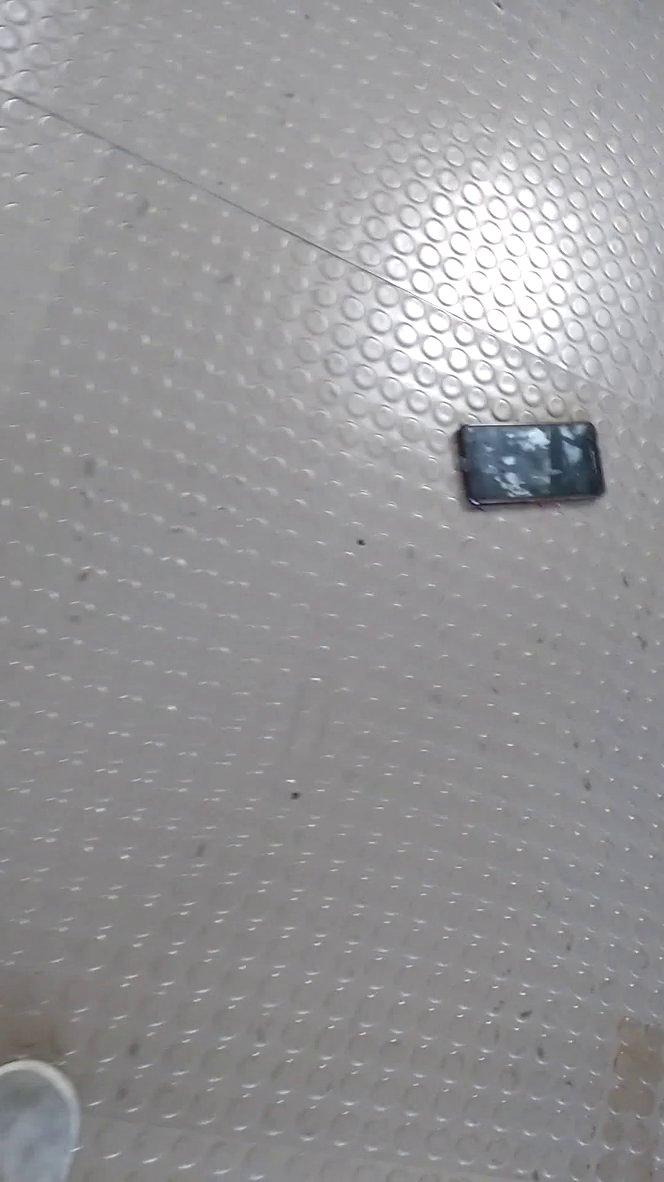phone: (446, 407, 619, 518)
